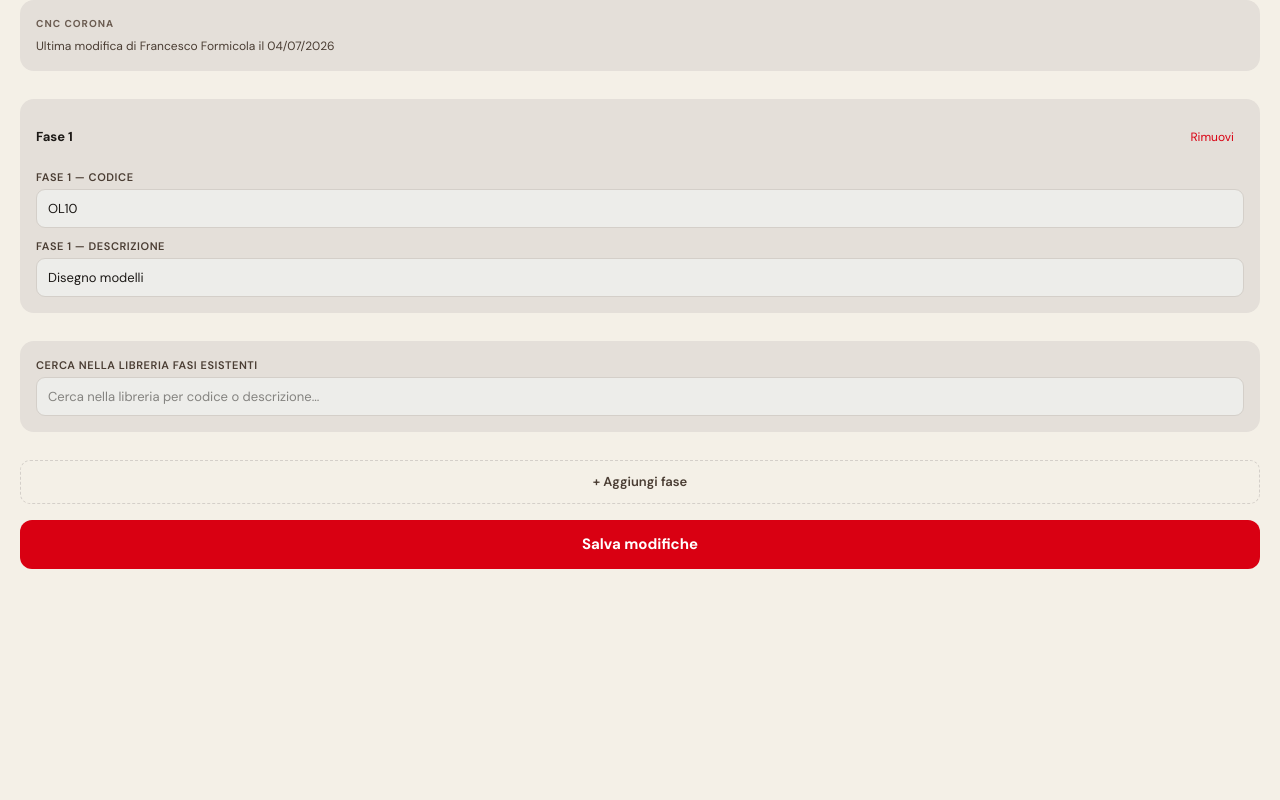
CicloFasiEditor › rimuovi fase → la rimuove dalla lista locale
This screenshot has width=1280, height=800.
expect the text "Ultima modifica di Francesco Formicola il 04/07/2026" is shown: met, box [36,38,335,54]
Click the button with aria-label "Rimuovi fase 1".
click(1212, 137)  # box [1180,115,1244,159]
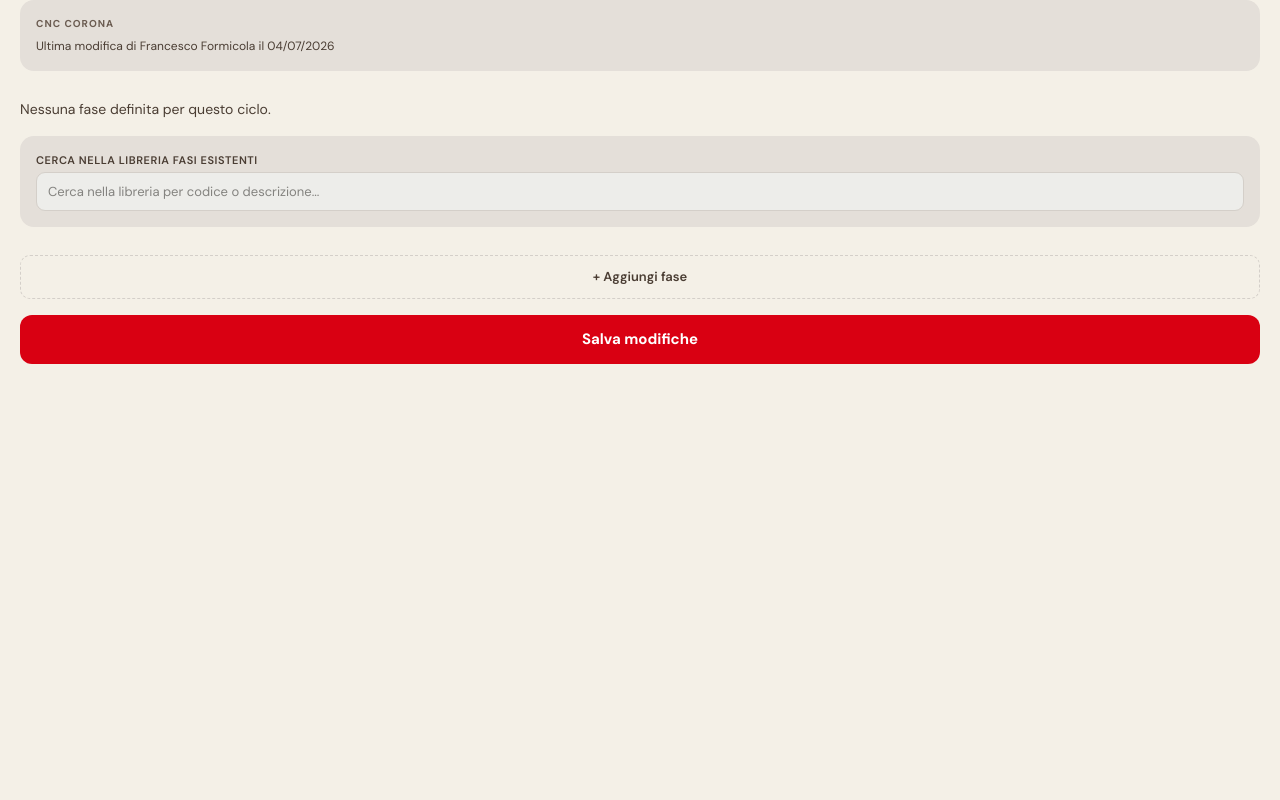
expect the label labelled "Fase 1 — Codice" is gone: met
